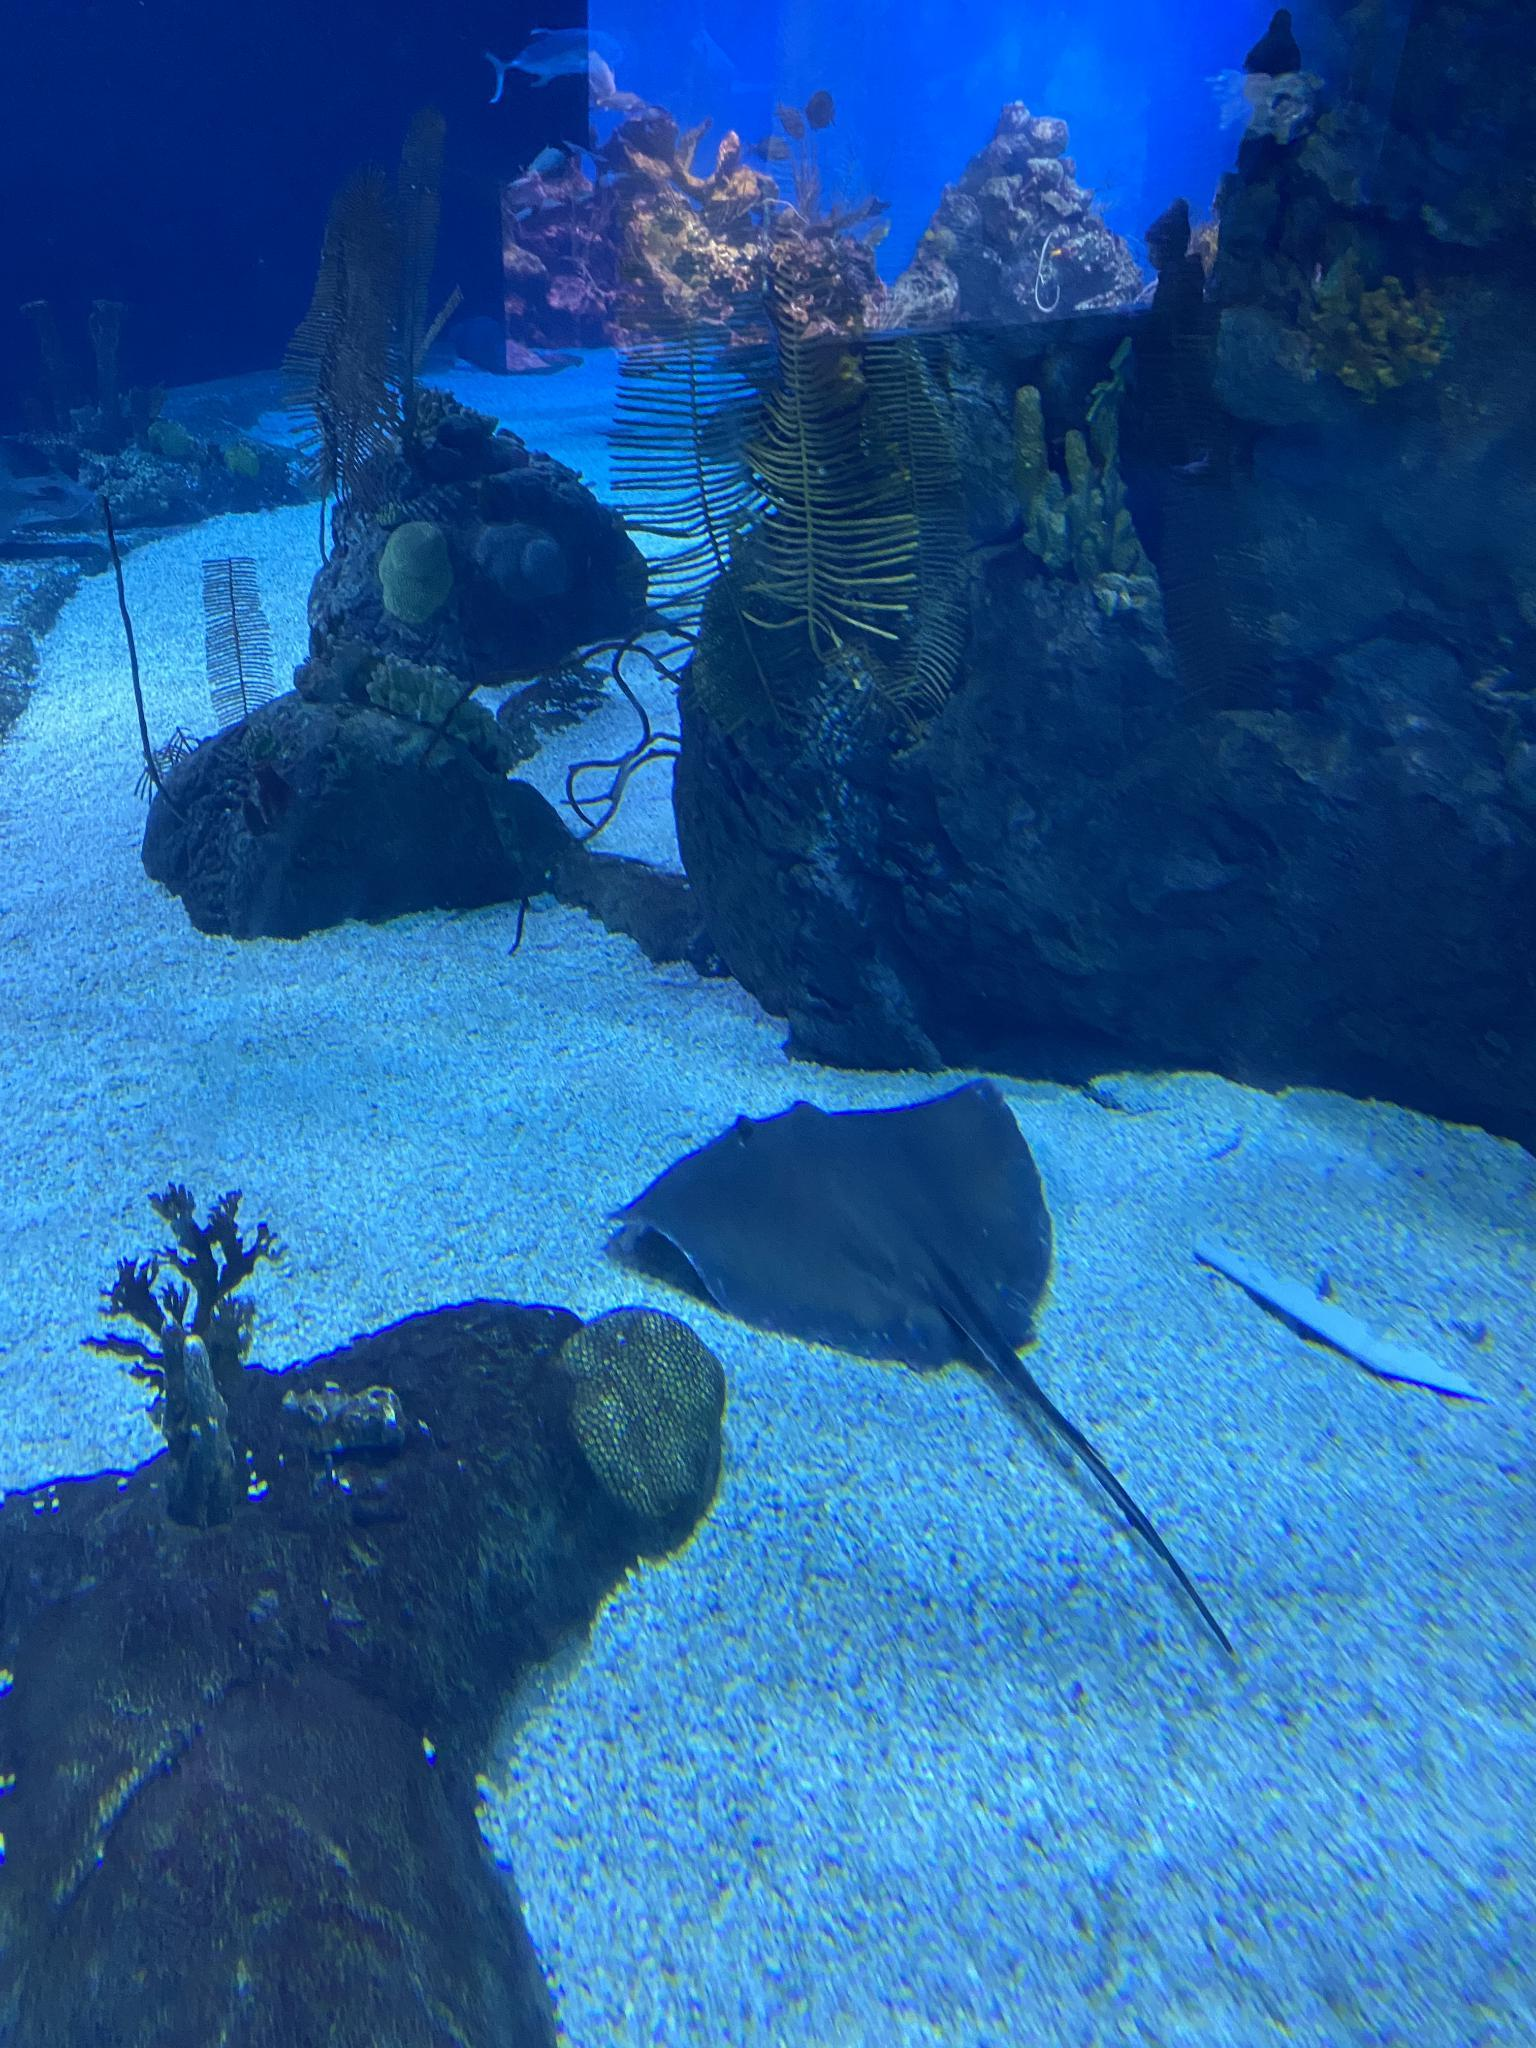fish: (482, 26, 624, 108)
stingray: (599, 1076, 1054, 1372)
